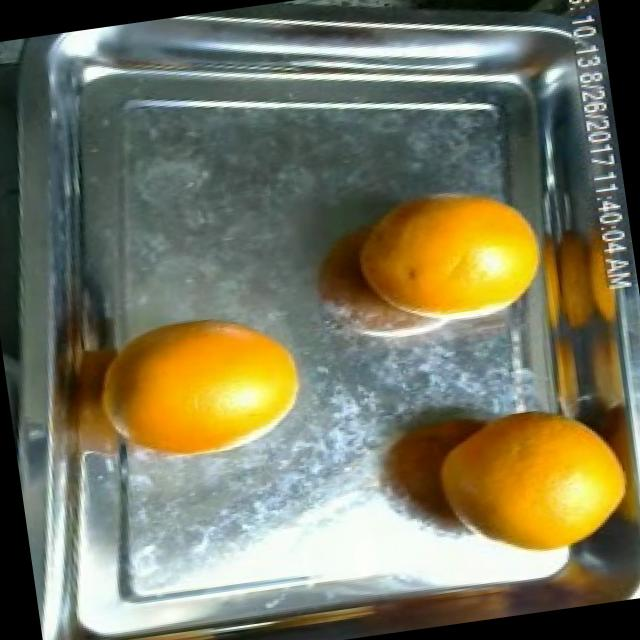Fruit: (415, 380, 640, 574), (99, 292, 326, 481), (338, 160, 562, 334)
